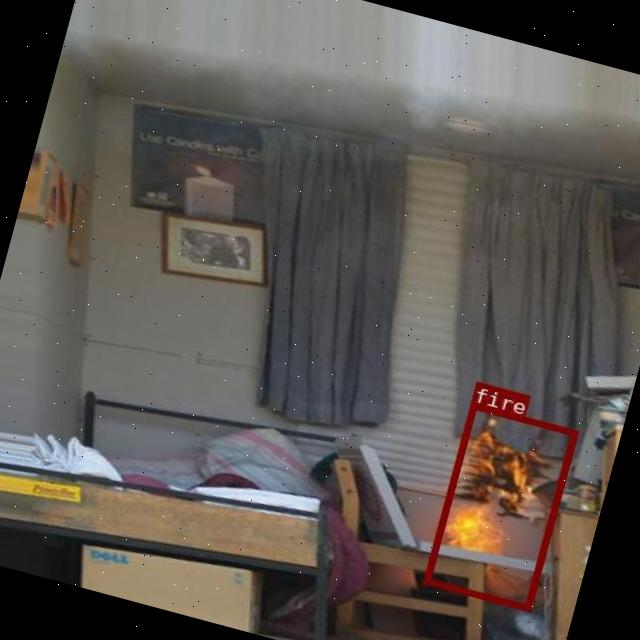fire: (421, 401, 577, 610)
